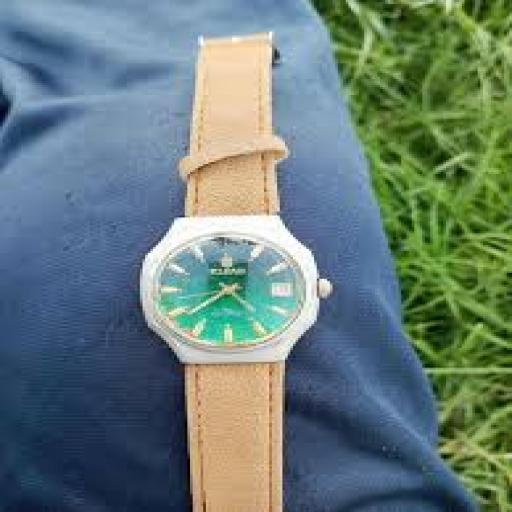KolSaati: (123, 14, 389, 512)
